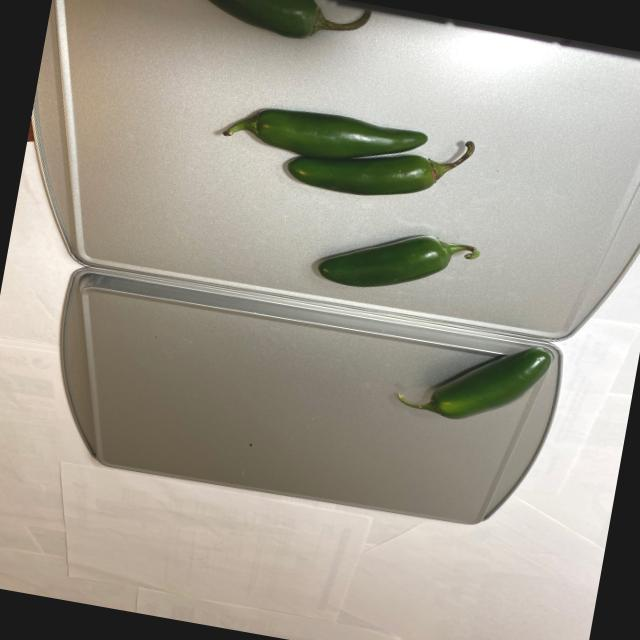chilli: (120, 0, 516, 308), (386, 318, 560, 440)
